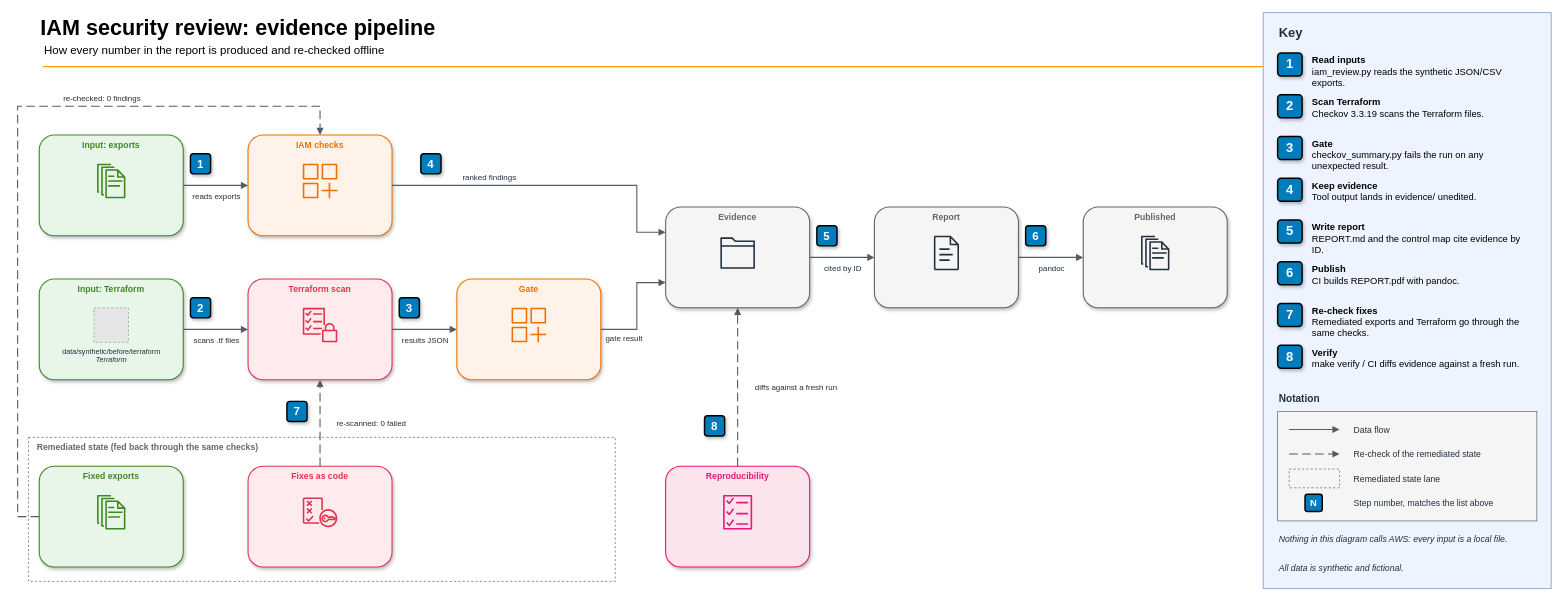
Image size: 1565x603. Some labels were removed from this diagram. Grey dashed boxes stand in for pictures. Each missing label, with the centre of its shape:
Checkov 3.3.19 policy-as-code scan: point (319, 324)
data/synthetic/after/export JSON/CSV exports: point (111, 512)
data/synthetic/before/export JSON/CSV exports: point (111, 180)
evidence/ unedited tool output: point (737, 252)
make verify / CI diff evidence against a fresh run: point (737, 512)
remediation/ policies, SCP, Terraform: point (319, 512)
REPORT.pdf pandoc, built in CI: point (1155, 252)
report/REPORT.md + control-evidence-map.md: point (946, 252)
scripts/checkov_summary.py expected-failures gate: point (528, 324)
scripts/iam_review.py 17 checks, stdlib: point (319, 180)
